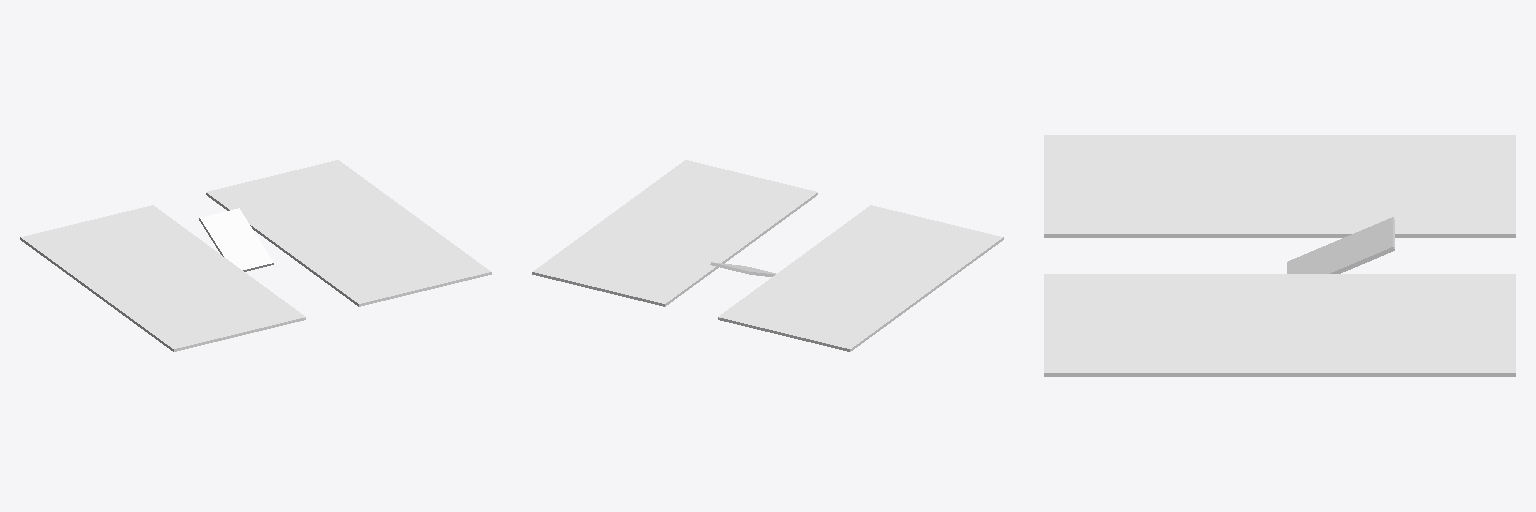
URDF robot description (flat_hole):
<robot name="flat_hole">
  <link name="base_link">
    <visual>
      <origin xyz="0 0 0" rpy="0 0 0" />
      <geometry>
        <mesh filename="package://hpp-rbprm-corba/meshes/flat_hole.stl"/>
      </geometry>
      <material name="white">
        <color rgba="1 1 1 1"/>
      </material>
    </visual>
    <collision>
      <origin xyz="0 0 0" rpy="0 0 0" />
      <geometry>
        <mesh filename="package://hpp-rbprm-corba/meshes/flat_hole.stl"/>
      </geometry>
    </collision>
  </link>
</robot>

--- Render facts (derived) ---
Views: 3 orthographic renders of the robot side by side, from view 1: azimuth 30°, elevation 25°; view 2: azimuth 150°, elevation 25°; view 3: azimuth 270°, elevation 25°.
Model flat_hole with 1 links and 0 joints (none), rooted at base_link, posed all joints at 0.
Visible links, largest first — view 1: base_link; view 2: base_link; view 3: base_link.
Link boxes in pixels (x1,y1,x2,y2): base_link: (20,160,491,351); base_link: (532,160,1003,351); base_link: (1044,135,1515,376).
Bounding box of the posed robot: 2.4 × 2 × 0.2294 m (x, y, z).
1 mesh visuals loaded from 1 distinct referenced files (1 binary STL).